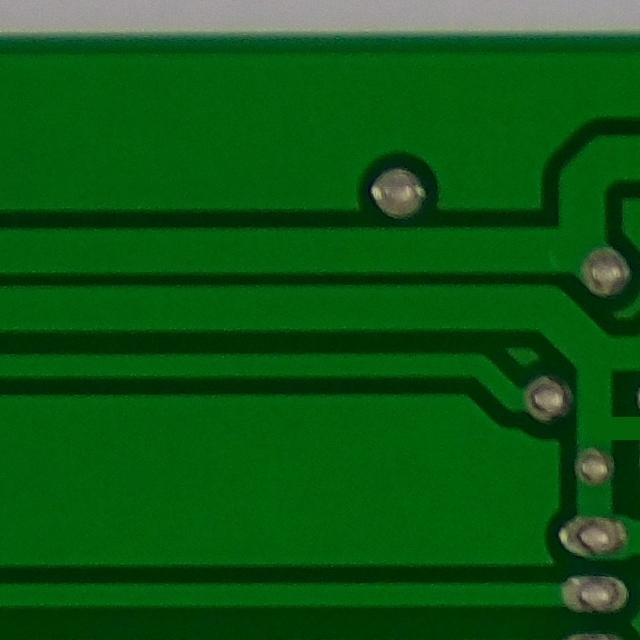short: (579, 393, 640, 467)
